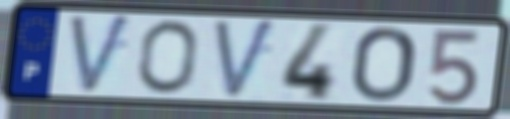4: (278, 22, 341, 103)
5: (424, 26, 485, 107)
O: (349, 24, 419, 104), (136, 18, 200, 97)
V: (210, 16, 280, 104), (66, 12, 136, 99)
